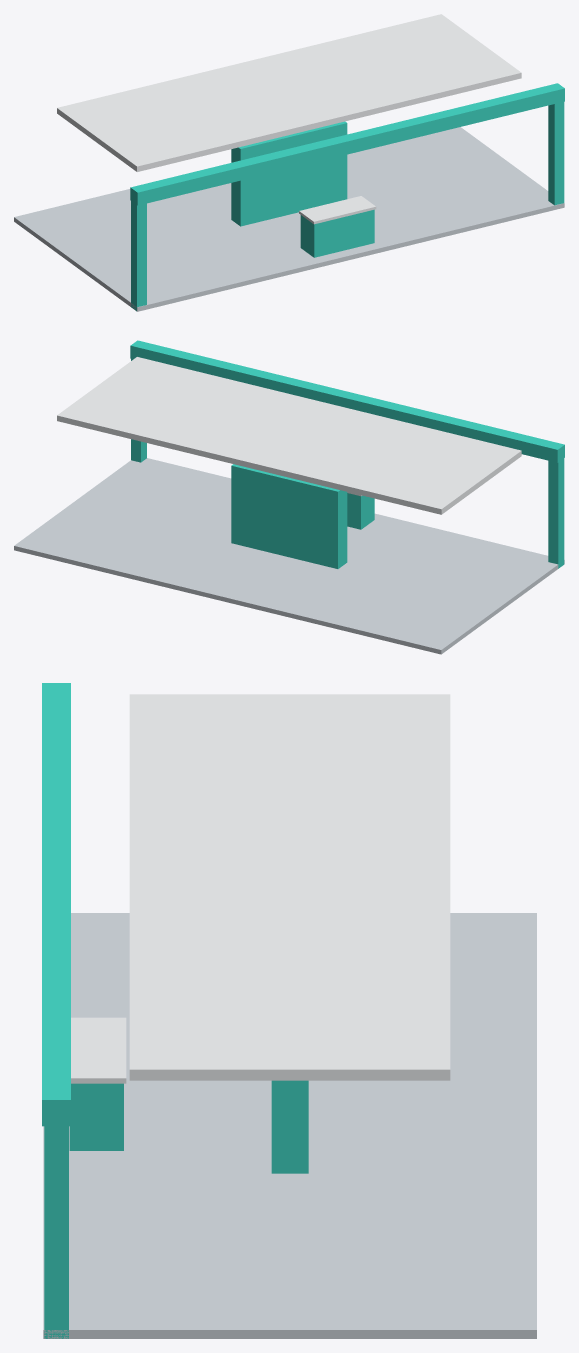
The picture shows the model from 3 angles, top to bottom: view 1: azimuth 30°, elevation 25°; view 2: azimuth 150°, elevation 25°; view 3: azimuth 270°, elevation 25°; orthographic projection. The views are drawn at different scales.
Visible parts, largest first — view 1: Exhibition Booth Concept; view 2: Exhibition Booth Concept; view 3: Exhibition Booth Concept.
Part boxes in pixels (left/top/right/bottom): Exhibition Booth Concept: left=14, top=14, right=564, bottom=311; Exhibition Booth Concept: left=14, top=340, right=564, bottom=654; Exhibition Booth Concept: left=42, top=683, right=536, bottom=1338.
Bounding box in the file's own units: 12 × 3.34 × 6.02.
